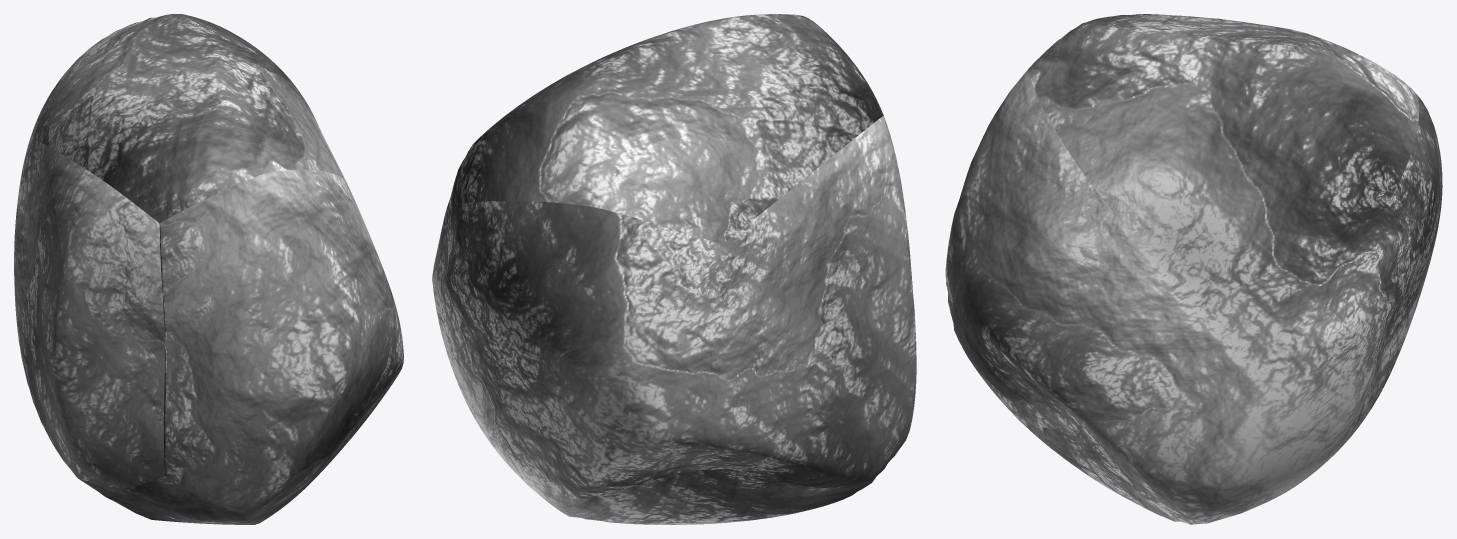
File: rock.fbx
The picture shows the model from 3 angles, left to right: view 1: azimuth 30°, elevation 25°; view 2: azimuth 150°, elevation 25°; view 3: azimuth 270°, elevation 25°; orthographic projection. The views are drawn at different scales.
Visible parts, largest first — view 1: Cube; view 2: Cube; view 3: Cube.
Part boxes in pixels (left/top/right/bottom): Cube: left=14, top=14, right=403, bottom=524; Cube: left=432, top=14, right=916, bottom=524; Cube: left=945, top=14, right=1442, bottom=524.
Size of the model in its own units: 152 by 185 by 179.
